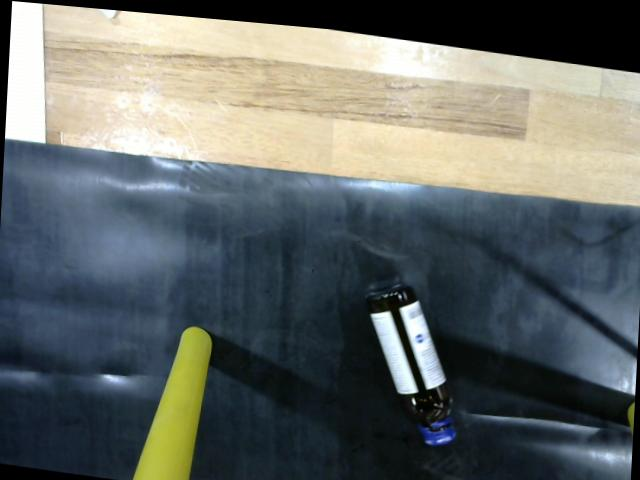glass: (358, 261, 464, 446)
